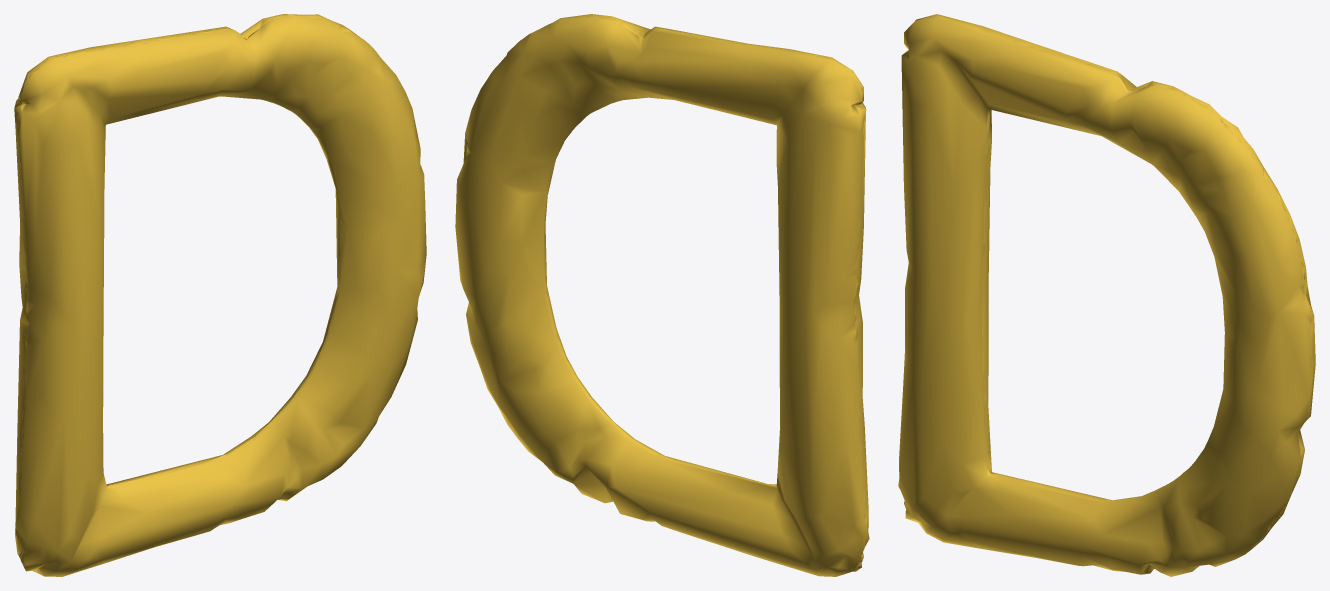
Rendered from ballon D.fbx.
3 renders of one model, left to right at view 1: azimuth 30°, elevation 25°; view 2: azimuth 150°, elevation 25°; view 3: azimuth 330°, elevation 25°, orthographic.
Parts seen in each view (by area): view 1: Text; view 2: Text; view 3: Text.
Boxes of the visible parts, x1,y1,x2,y2 form: Text: [14, 14, 426, 576]; Text: [455, 14, 869, 576]; Text: [898, 14, 1315, 576].
Bounding box in the file's own units: 49.36 × 59.8 × 8.35.
